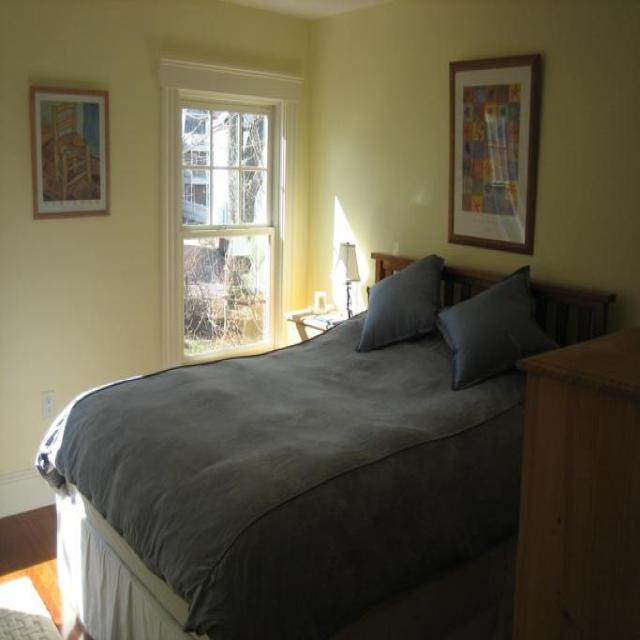bed: (34, 251, 616, 639)
carpet: (0, 574, 62, 638)
cupboard: (511, 325, 639, 637)
door: (178, 98, 278, 362)
lamps: (332, 241, 361, 319)
pillows: (434, 264, 557, 390), (354, 252, 444, 352)
